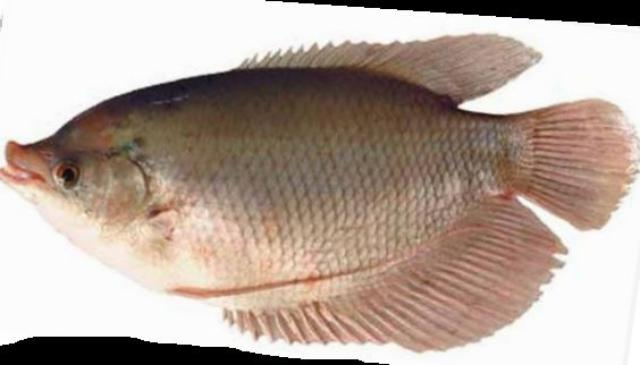Mulut: (0, 120, 68, 228)
Sirip Anal: (214, 187, 580, 365)
Sirip Ekor: (500, 90, 640, 239)
Sirip Punggung: (228, 23, 548, 116)
